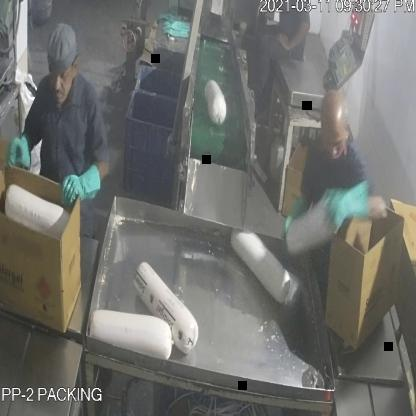glove: (60, 164, 104, 205)
no_glove: (277, 17, 317, 62)
